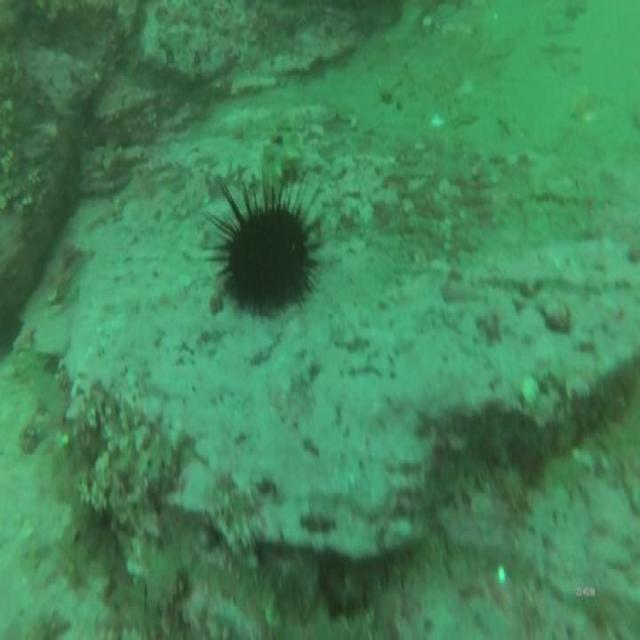echinus: (197, 172, 327, 319)
